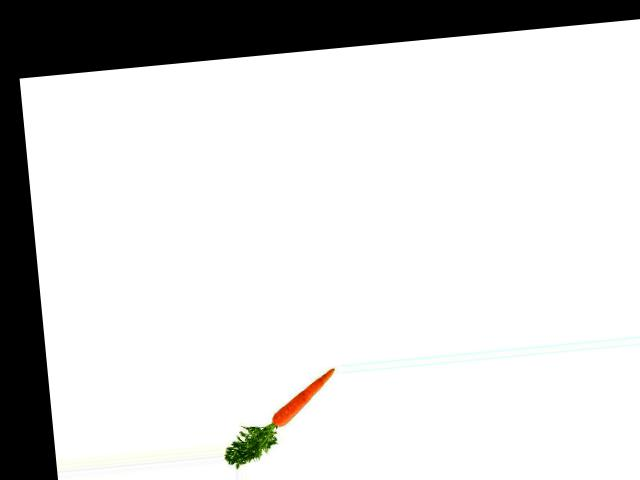carrot: (260, 365, 341, 429)
